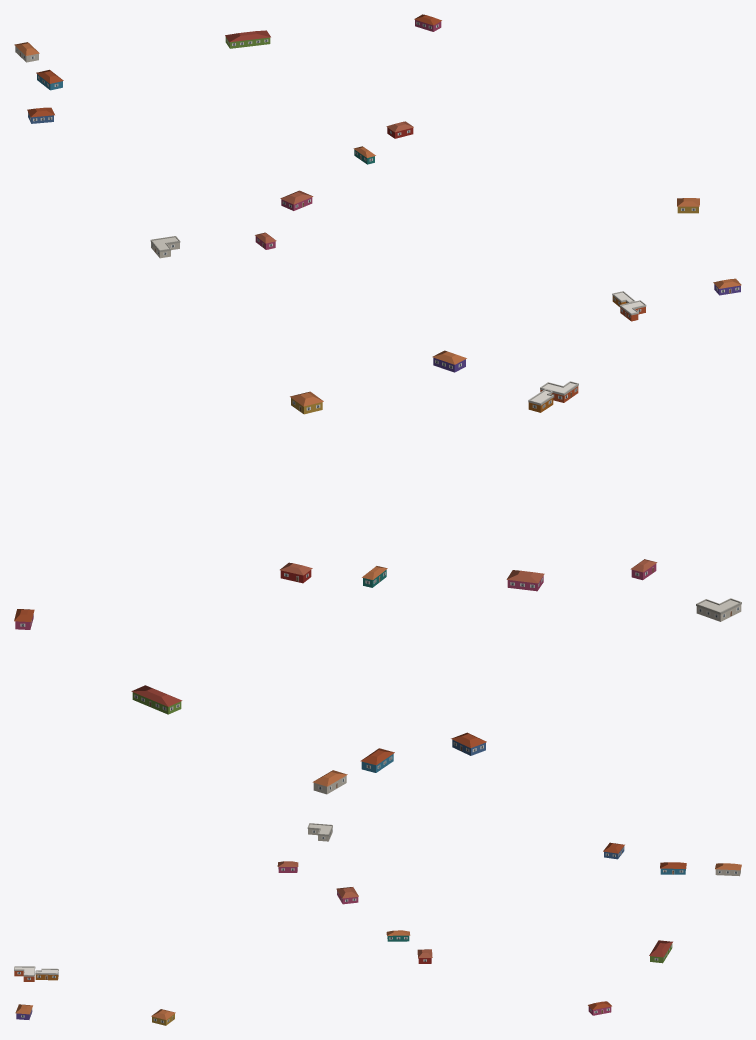
File: msb_sannicolas_18_21.glb
3 views of the same model, one above another, from view 1: azimuth 30°, elevation 25°; view 2: azimuth 150°, elevation 25°; view 3: azimuth 270°, elevation 25° (orthographic). The views are drawn at different scales.
Parts seen in each view (by area): view 1: msb_sannicolas_18_21_lod0; view 2: msb_sannicolas_18_21_lod0; view 3: msb_sannicolas_18_21_lod0.
Part boxes in pixels (<box>): msb_sannicolas_18_21_lod0: <box>14,14,741,321</box>; msb_sannicolas_18_21_lod0: <box>14,350,741,794</box>; msb_sannicolas_18_21_lod0: <box>14,823,741,1025</box>.
Size of what is drawn, in the model's own units: 240 by 14.58 by 374.
Materials: 3 (1 with a texture image).
